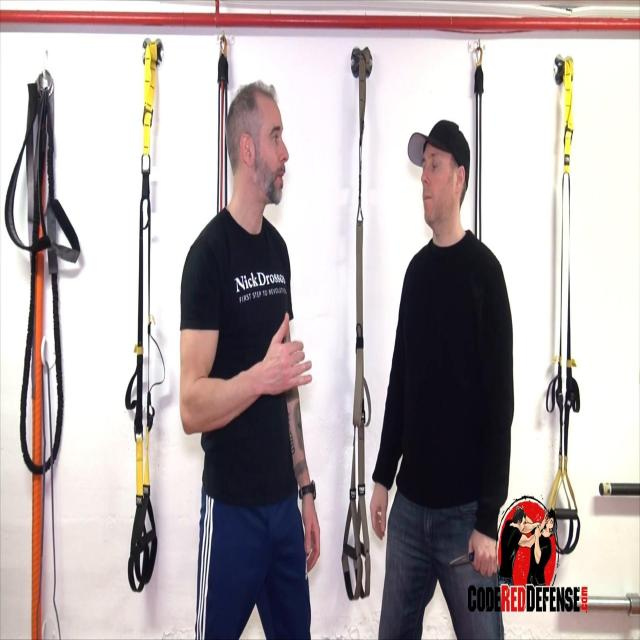scissor: (449, 549, 475, 568)
